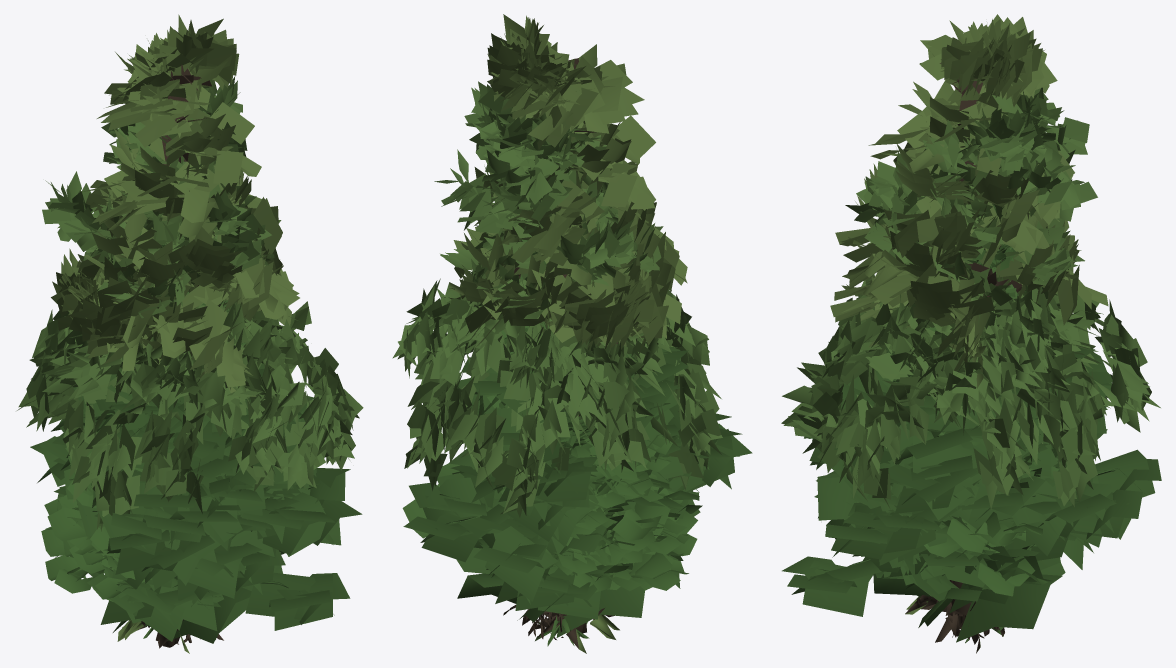
File: cay_mau.glb
The picture shows the model from 3 angles, left to right: view 1: azimuth 30°, elevation 25°; view 2: azimuth 150°, elevation 25°; view 3: azimuth 270°, elevation 25°; orthographic projection. The views are drawn at different scales.
Visible parts, largest first — view 1: CayM_Bottom_T, CayM_Mossy_Tr, CayM_Walnut_L, CayM_Bark___1, CayM_Sonnerat, CayM_Bark___S; view 2: CayM_Mossy_Tr, CayM_Bottom_T, CayM_Walnut_L, CayM_Bark___1, CayM_Sonnerat, CayM_Bark___S, CayM_Bark___0; view 3: CayM_Mossy_Tr, CayM_Bottom_T, CayM_Walnut_L, CayM_Bark___1, CayM_Bark___S, CayM_Sonnerat, CayM_Bark___0.
Boxes of the visible parts, x1,y1,x2,y2 form: CayM_Bottom_T: (51,14,299,653); CayM_Mossy_Tr: (17,289,363,639); CayM_Walnut_L: (30,363,362,647); CayM_Bark___1: (42,76,281,318); CayM_Sonnerat: (41,427,153,638); CayM_Bark___S: (104,550,284,643); CayM_Mossy_Tr: (392,278,722,517); CayM_Bottom_T: (441,14,687,653); CayM_Walnut_L: (403,344,752,636); CayM_Bark___1: (434,81,663,639); CayM_Sonnerat: (402,416,702,646); CayM_Bark___S: (456,381,644,637); CayM_Bark___0: (487,239,602,637); CayM_Mossy_Tr: (781,262,1160,637); CayM_Bottom_T: (830,14,1108,653); CayM_Walnut_L: (782,347,1161,625); CayM_Bark___1: (845,87,1097,636); CayM_Bark___S: (873,468,1065,643); CayM_Sonnerat: (924,458,1060,636); CayM_Bark___0: (910,204,1051,473).
Bounding box in the file's own units: 9.34 × 20 × 11.01.
